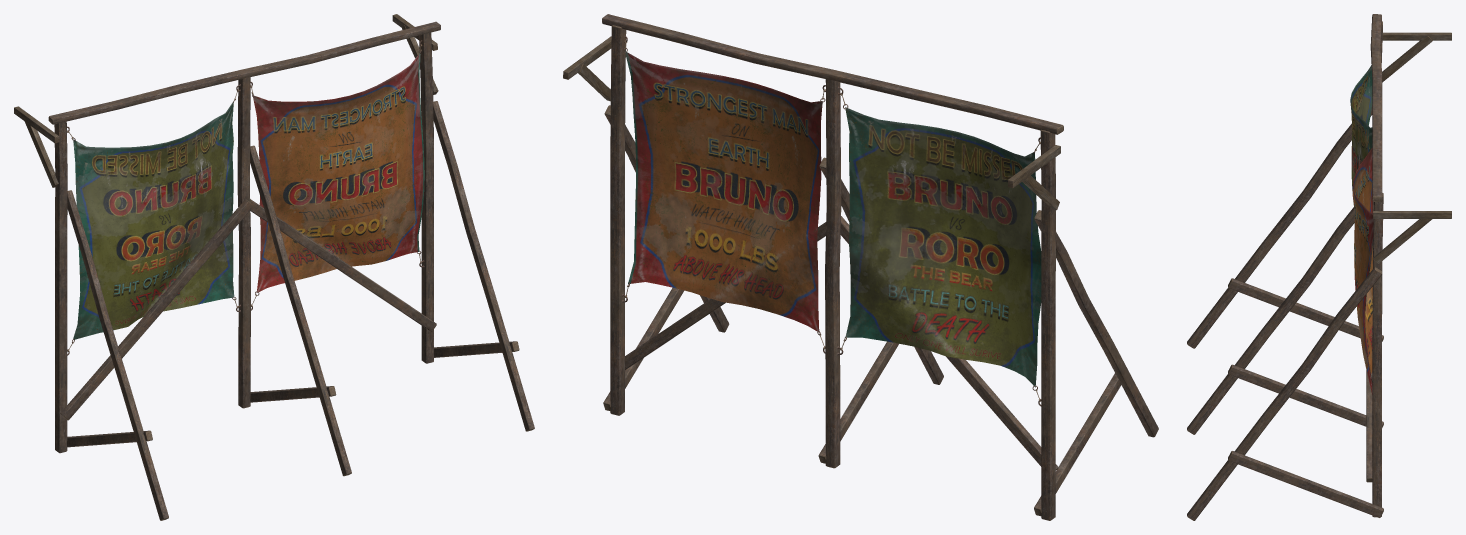
The model's file is SM_CanvasWall_A.fbx.
The picture shows the model from 3 angles, left to right: view 1: azimuth 30°, elevation 25°; view 2: azimuth 150°, elevation 25°; view 3: azimuth 270°, elevation 25°; orthographic projection. The views are drawn at different scales.
Visible parts, largest first — view 1: SM_CanvasWall_A_LOD0; view 2: SM_CanvasWall_A_LOD0; view 3: SM_CanvasWall_A_LOD0.
Boxes of the visible parts, x1=… form: SM_CanvasWall_A_LOD0: x1=14, y1=14, x2=534, y2=520; SM_CanvasWall_A_LOD0: x1=563, y1=14, x2=1158, y2=520; SM_CanvasWall_A_LOD0: x1=1187, y1=14, x2=1451, y2=520.
Bounding box in the file's own units: 661 × 400 × 543.
Materials: 2 (2 with a texture image).
